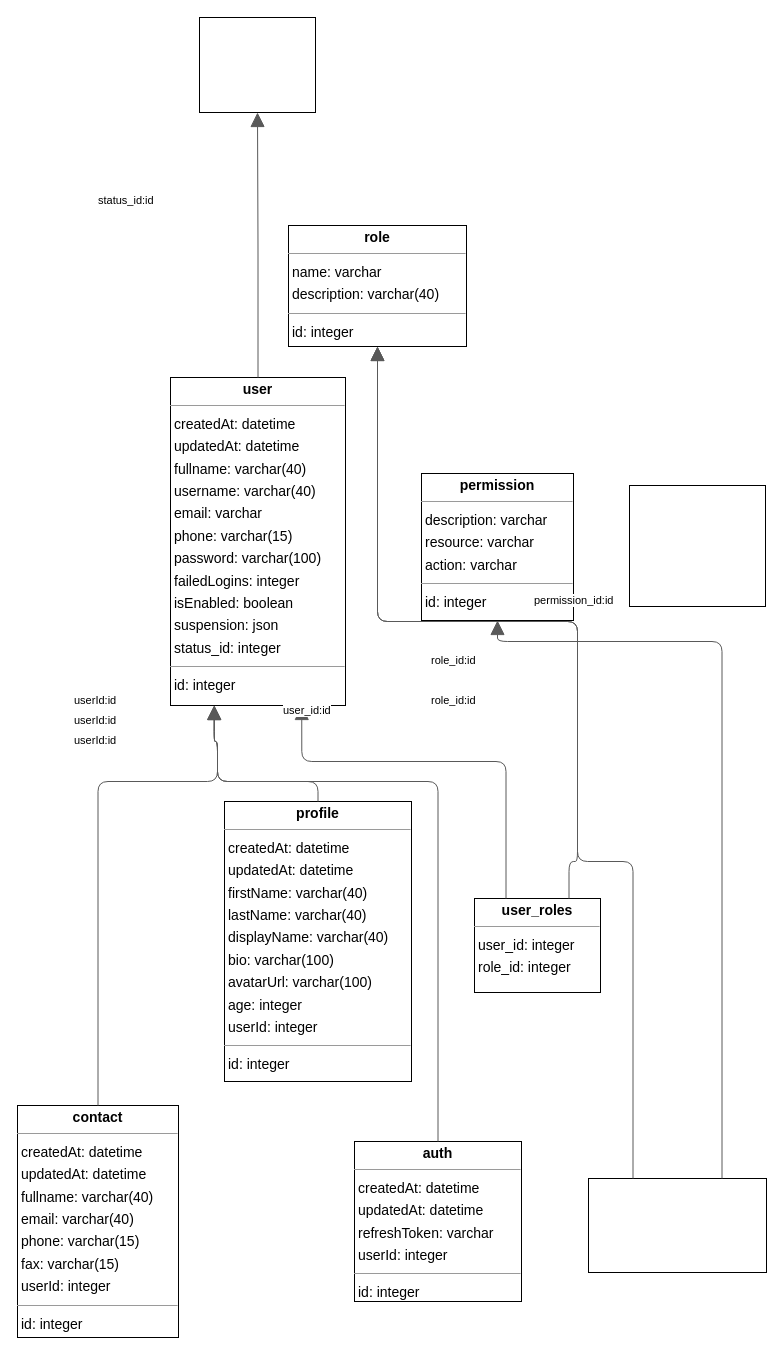
Some shapes in this 784 by 1355 pixel diagram are drawn without their labels. Each missing label, with the centre of its shape:
"migrations timestamp: bigint name: varchar id: integer" goes at point (697, 545).
"role_permissions role_id: integer permission_id: integer" goes at point (677, 1225).
"status name: varchar id: integer" goes at point (257, 64).
